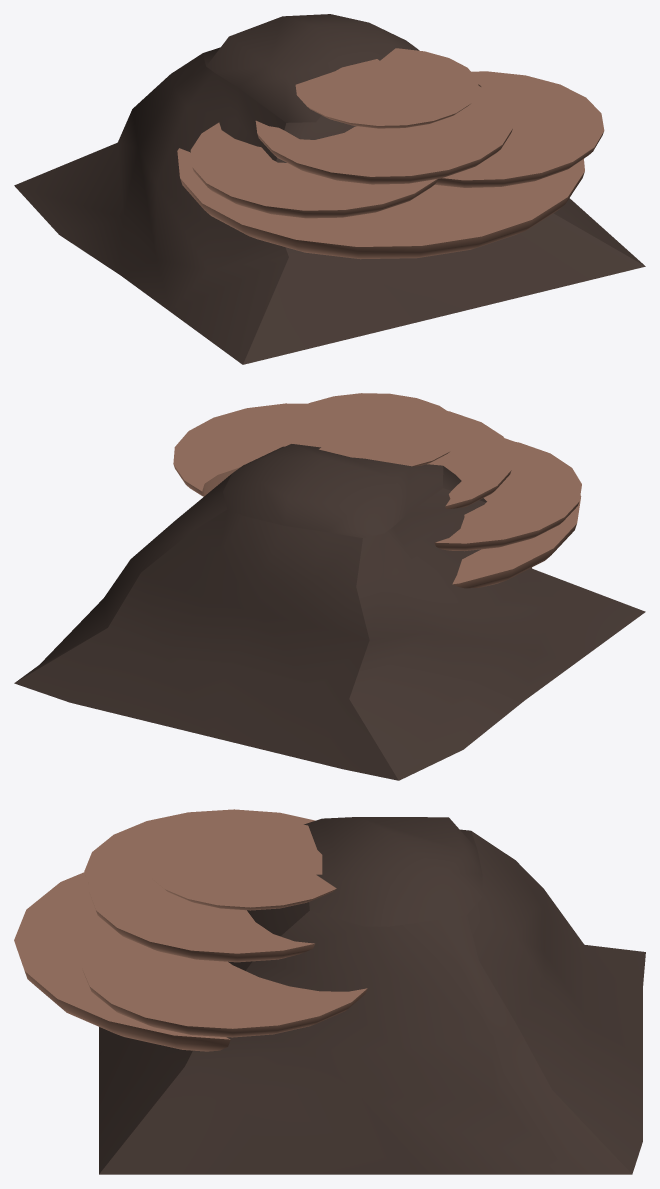
Rendered from Sango(tana).fbx.
3 views of the same model, one above another, from view 1: azimuth 30°, elevation 25°; view 2: azimuth 150°, elevation 25°; view 3: azimuth 270°, elevation 25° (orthographic). The views are drawn at different scales.
Visible parts, largest first — view 1: pSphere7; view 2: pSphere7; view 3: pSphere7.
Part boxes in pixels (x1,y1,x2,y2): pSphere7: (14,14,645,364); pSphere7: (14,393,645,780); pSphere7: (14,809,645,1174).
Size of the model in its own units: 11.81 by 5.7 by 13.99.
